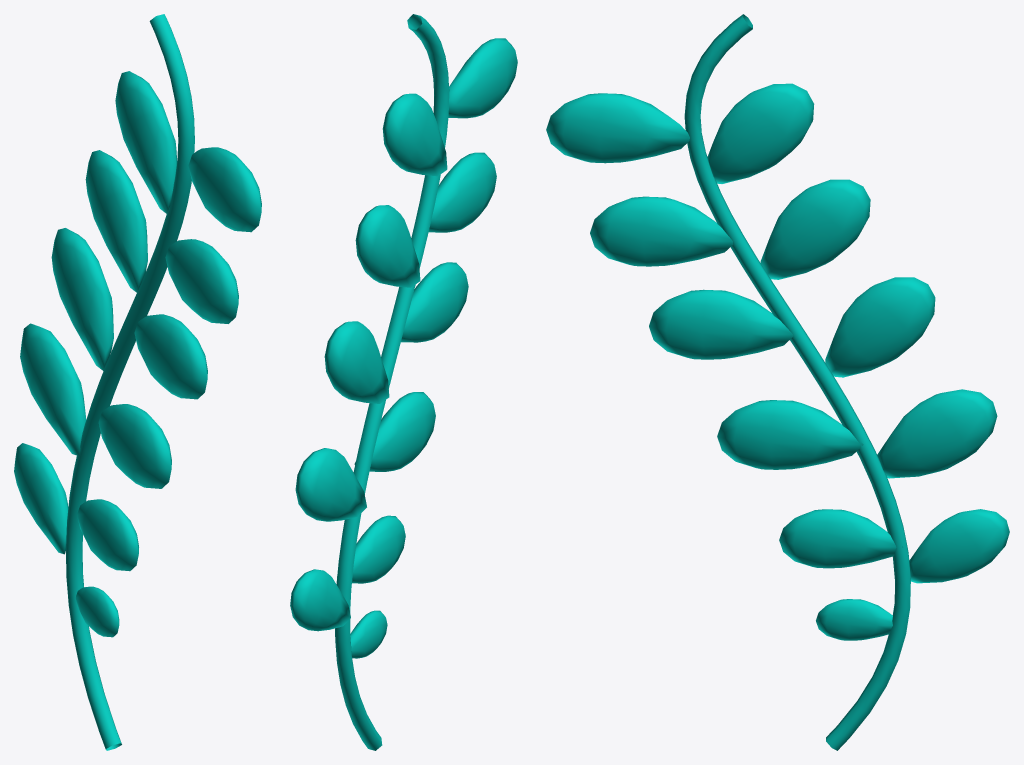
Rendered from plant1_l.fbx.
The picture shows the model from 3 angles, left to right: view 1: azimuth 30°, elevation 25°; view 2: azimuth 150°, elevation 25°; view 3: azimuth 270°, elevation 25°; orthographic projection. The views are drawn at different scales.
Visible parts, largest first — view 1: Sphere.040; view 2: Sphere.040; view 3: Sphere.040.
Part boxes in pixels (x1,y1,x2,y2): Sphere.040: [14, 14, 261, 750]; Sphere.040: [290, 14, 517, 750]; Sphere.040: [546, 14, 1009, 750].
Bounding box in the file's own units: 8.54 × 118 × 206.
